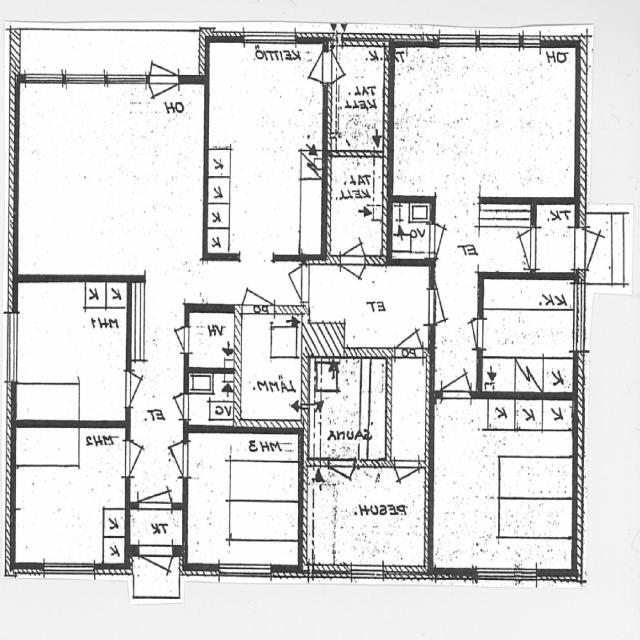door: (575, 226, 619, 270), (140, 544, 173, 598), (139, 458, 172, 508), (242, 263, 274, 313), (499, 227, 537, 269), (395, 310, 423, 357), (442, 353, 471, 398), (156, 440, 190, 478), (274, 266, 309, 302), (429, 288, 463, 325), (152, 76, 178, 122), (152, 40, 178, 86), (127, 440, 159, 477), (127, 371, 159, 406), (329, 459, 355, 500), (341, 222, 365, 266), (429, 224, 460, 258), (341, 254, 365, 297), (299, 52, 332, 83), (323, 52, 356, 83), (455, 318, 485, 349), (395, 459, 419, 497), (164, 326, 190, 353), (165, 394, 190, 419)
